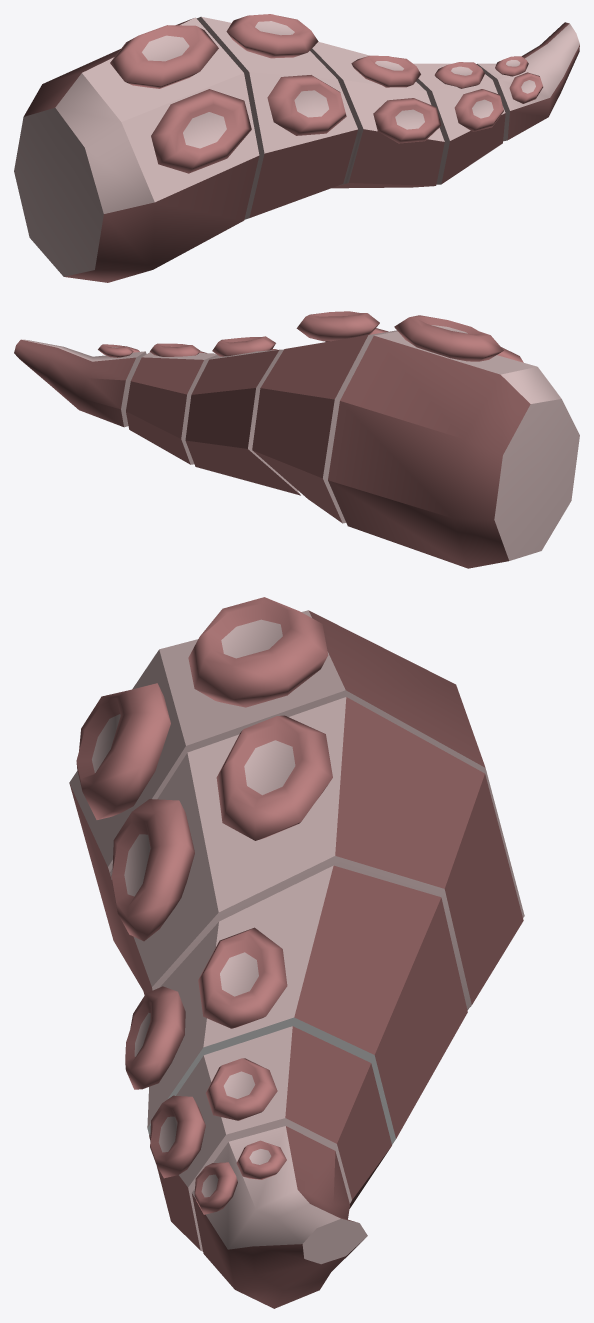
The model's file is octopus cut.fbx.
The picture shows the model from 3 angles, top to bottom: view 1: azimuth 30°, elevation 25°; view 2: azimuth 150°, elevation 25°; view 3: azimuth 270°, elevation 25°; orthographic projection. The views are drawn at different scales.
Parts seen in each view (by area): view 1: tentacle_cut; view 2: tentacle_cut; view 3: tentacle_cut.
Part boxes in pixels (<box>): tentacle_cut: <box>14,14,579,282</box>; tentacle_cut: <box>14,311,579,568</box>; tentacle_cut: <box>69,597,524,1308</box>.
Size of the model in its own units: 49.34 by 20.89 by 19.31.
